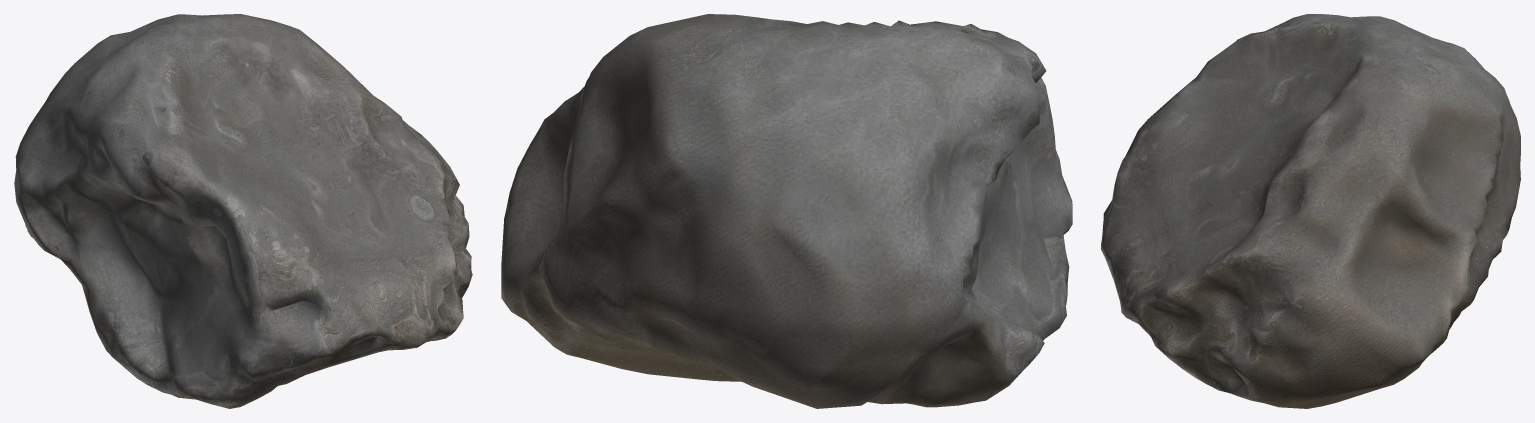
File: stone_centerpiece.glb
3 views of the same model, side by side, from view 1: azimuth 30°, elevation 25°; view 2: azimuth 150°, elevation 25°; view 3: azimuth 270°, elevation 25° (orthographic). The views are drawn at different scales.
Parts seen in each view (by area): view 1: TesanaFacingY180; view 2: TesanaFacingY180; view 3: TesanaFacingY180.
Part boxes in pixels (left/top/right/bottom): TesanaFacingY180: left=14, top=14, right=472, bottom=408; TesanaFacingY180: left=501, top=14, right=1072, bottom=408; TesanaFacingY180: left=1101, top=14, right=1520, bottom=408.
Size of the model in its own units: 0.6259 by 0.5 by 0.6309.
Materials: 1 (1 with a texture image).
